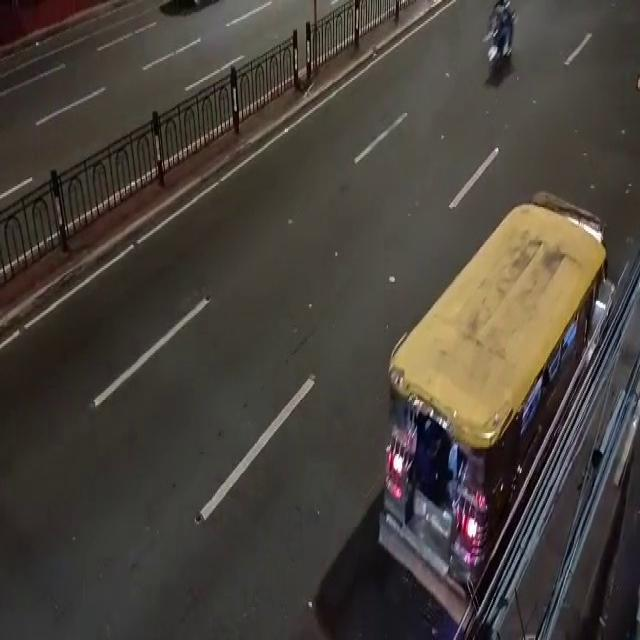jeepney: (397, 194, 604, 611)
